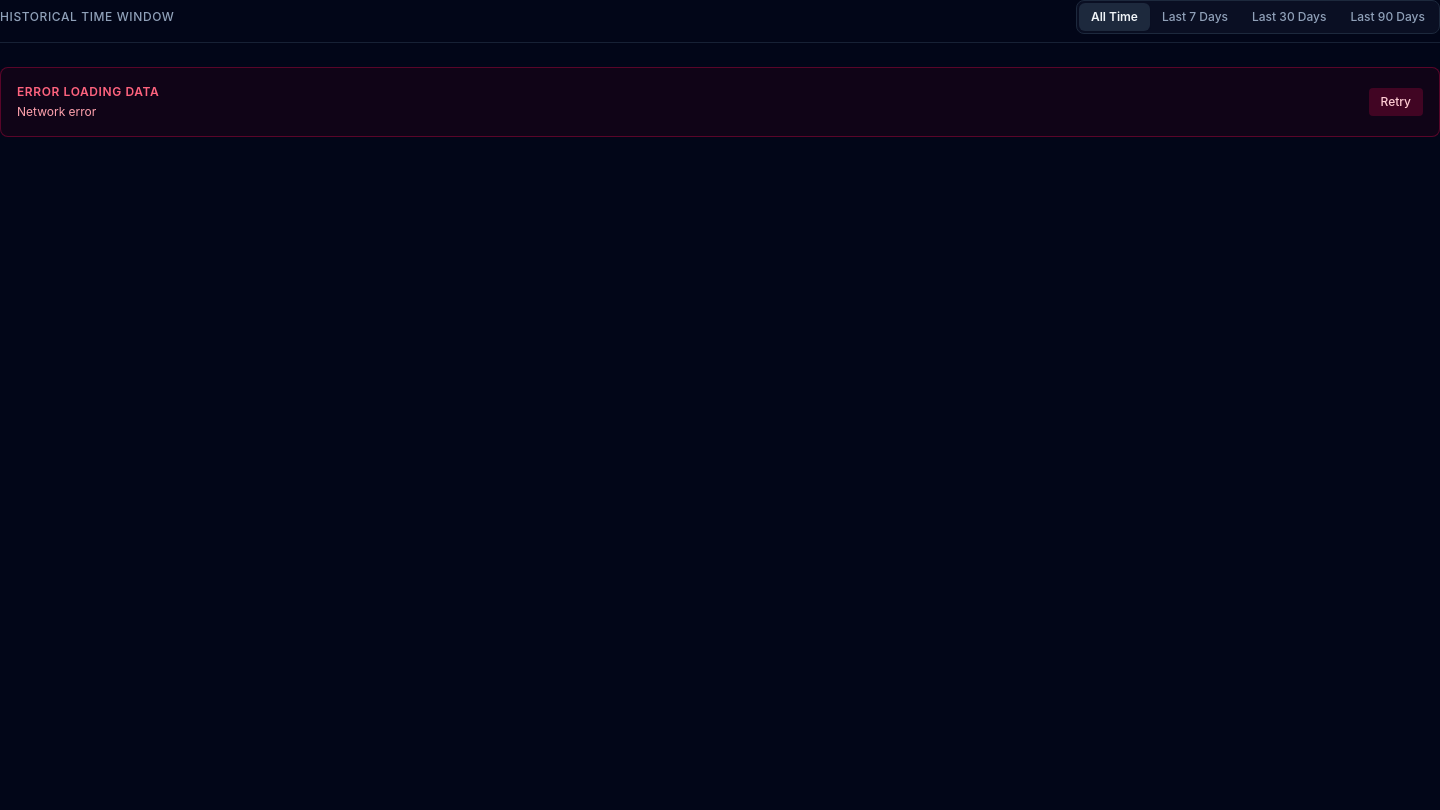
Performance Page Unit Tests › 8. Displays safe error state and allows retry on API failure
Expected: the heading "Error Loading Data" is shown, [17, 84, 159, 100]
Expected: the text "Network error" is shown, [17, 104, 96, 119]
Step 1. Click the button "Retry" → click(1396, 102), box [1368, 88, 1423, 116]
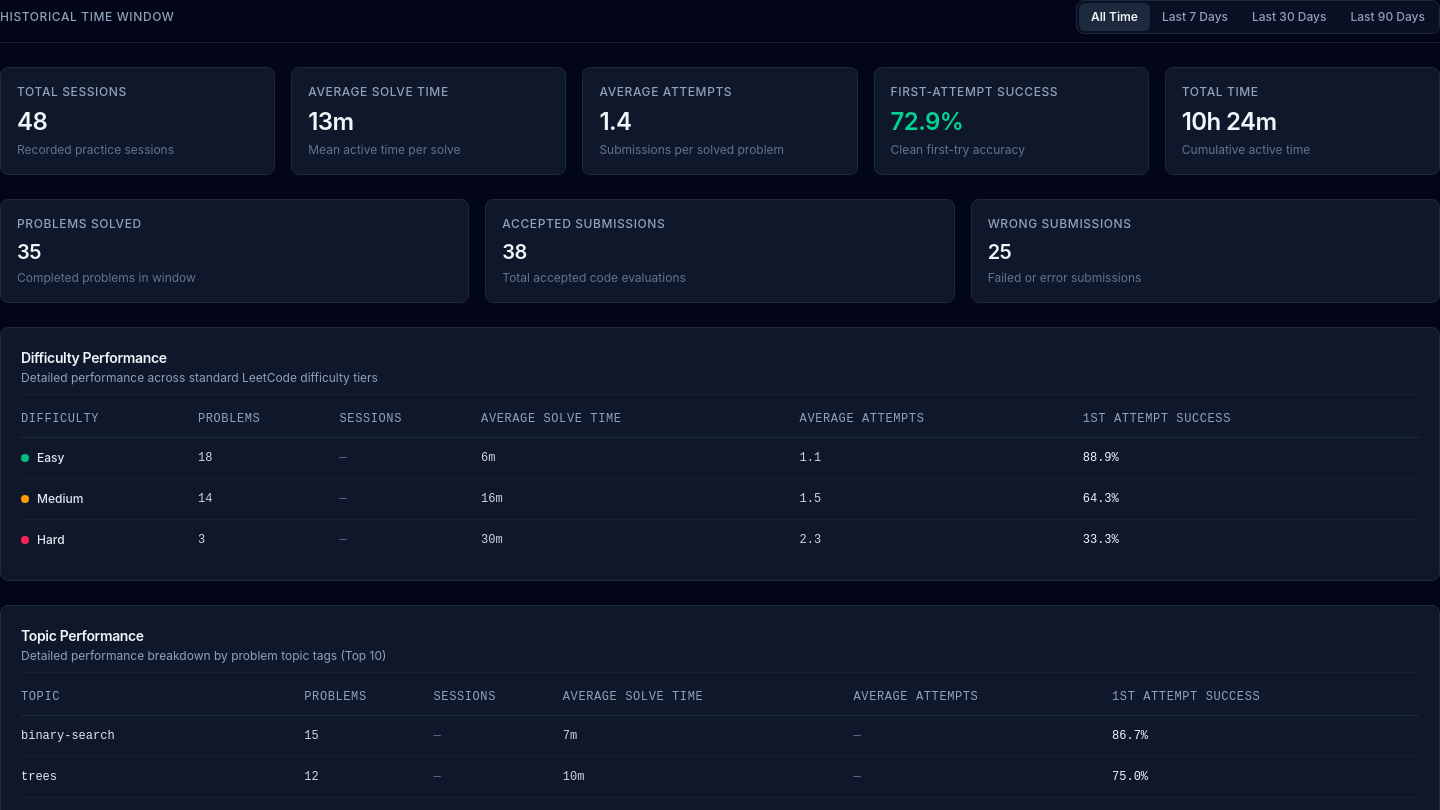
Expected: the text "Total Sessions" is shown, [17, 84, 127, 99]
Expected: the text "48" is shown, [17, 107, 47, 136]
